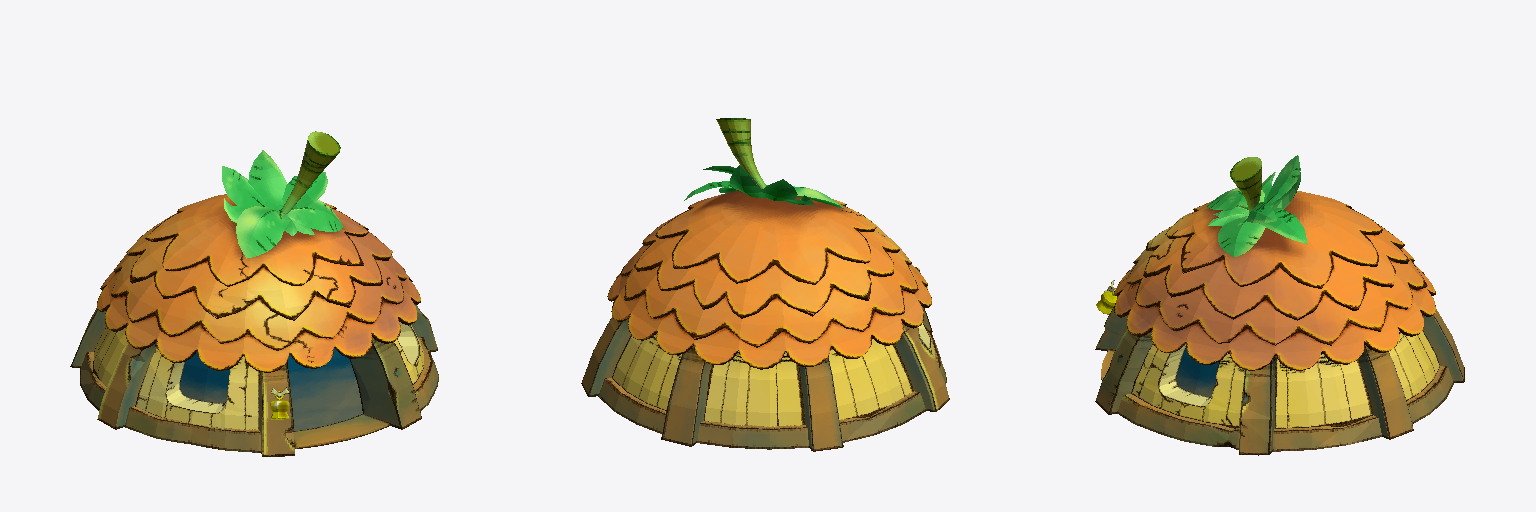
3 views of the same model, side by side, from view 1: azimuth 30°, elevation 25°; view 2: azimuth 150°, elevation 25°; view 3: azimuth 270°, elevation 25° (orthographic).
Parts seen in each view (by area): view 1: building_base_mdl.001; view 2: building_base_mdl.001; view 3: building_base_mdl.001.
Part boxes in pixels (bbox=[...]): building_base_mdl.001: bbox=[70, 131, 438, 456]; building_base_mdl.001: bbox=[581, 118, 949, 451]; building_base_mdl.001: bbox=[1095, 155, 1464, 455].
Size of the model in its own units: 4.57 by 3.18 by 4.46.
Materials: 1 (1 with a texture image).